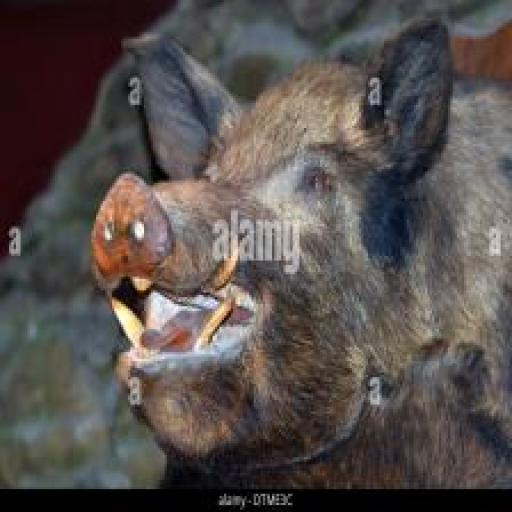Pig: (89, 14, 512, 507)
